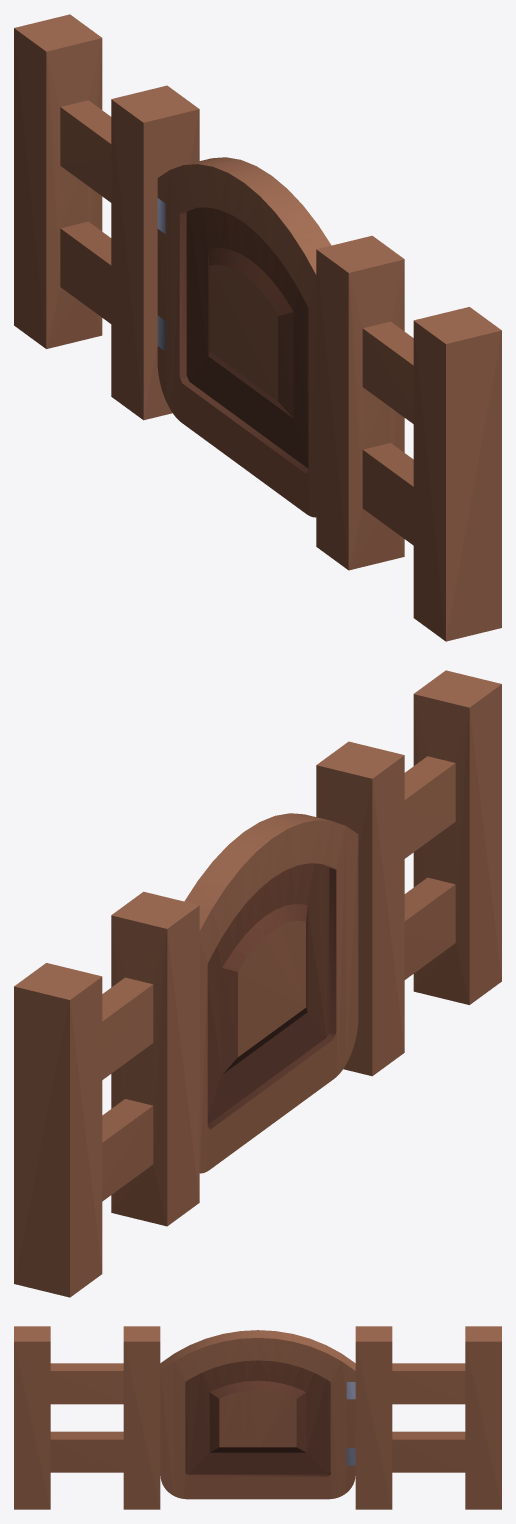
Rendered from fantasytown_fence_gate.glb.
3 renders of one model, top to bottom at view 1: azimuth 30°, elevation 25°; view 2: azimuth 150°, elevation 25°; view 3: azimuth 270°, elevation 25°, orthographic. The views are drawn at different scales.
Visible parts, largest first — view 1: fantasytown_fence_gate; view 2: fantasytown_fence_gate; view 3: fantasytown_fence_gate.
Boxes of the visible parts, bbox=[...] form: fantasytown_fence_gate: bbox=[14, 14, 501, 641]; fantasytown_fence_gate: bbox=[14, 670, 501, 1297]; fantasytown_fence_gate: bbox=[14, 1326, 501, 1509].
Bounding box in the file's own units: 0.075 × 0.38 × 1.
